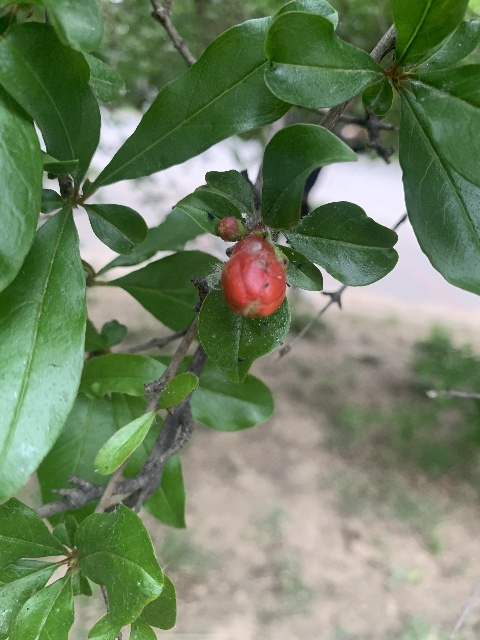bud: (220, 235, 286, 319), (217, 216, 247, 241)
